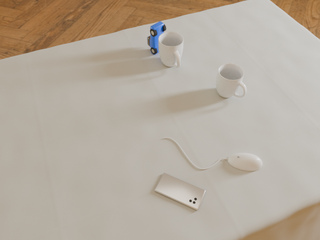cup: (216, 63, 247, 98), (158, 32, 183, 68)
mouse: (228, 153, 262, 171)
phone: (155, 173, 205, 210)
toy_car: (147, 21, 166, 55)
